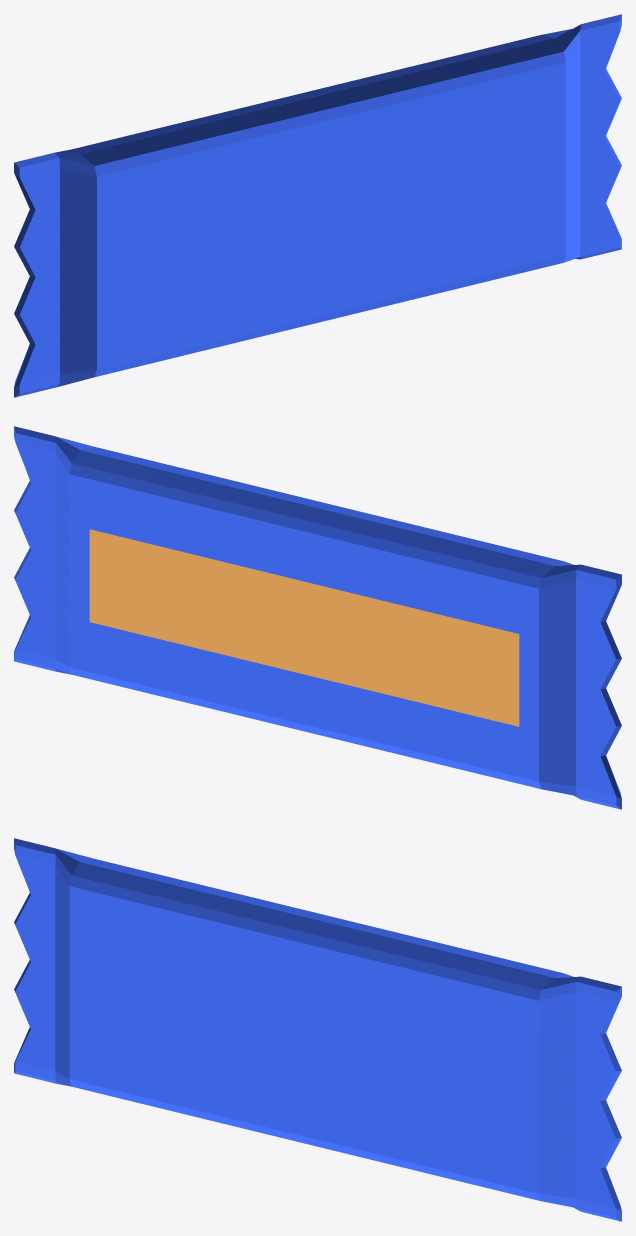
Rendered from Wafer Cookie 2.fbx.
3 views of the same model, one above another, from view 1: azimuth 30°, elevation 25°; view 2: azimuth 150°, elevation 25°; view 3: azimuth 330°, elevation 25° (orthographic).
Parts seen in each view (by area): view 1: Node 0; view 2: Node 0; view 3: Node 0.
Boxes of the visible parts, box(x1,y1,x2,y2) form: Node 0: box(14, 14, 621, 397); Node 0: box(14, 426, 621, 809); Node 0: box(14, 838, 621, 1221).
Bounding box in the file's own units: 0.0155 × 0.0736 × 0.1991.
